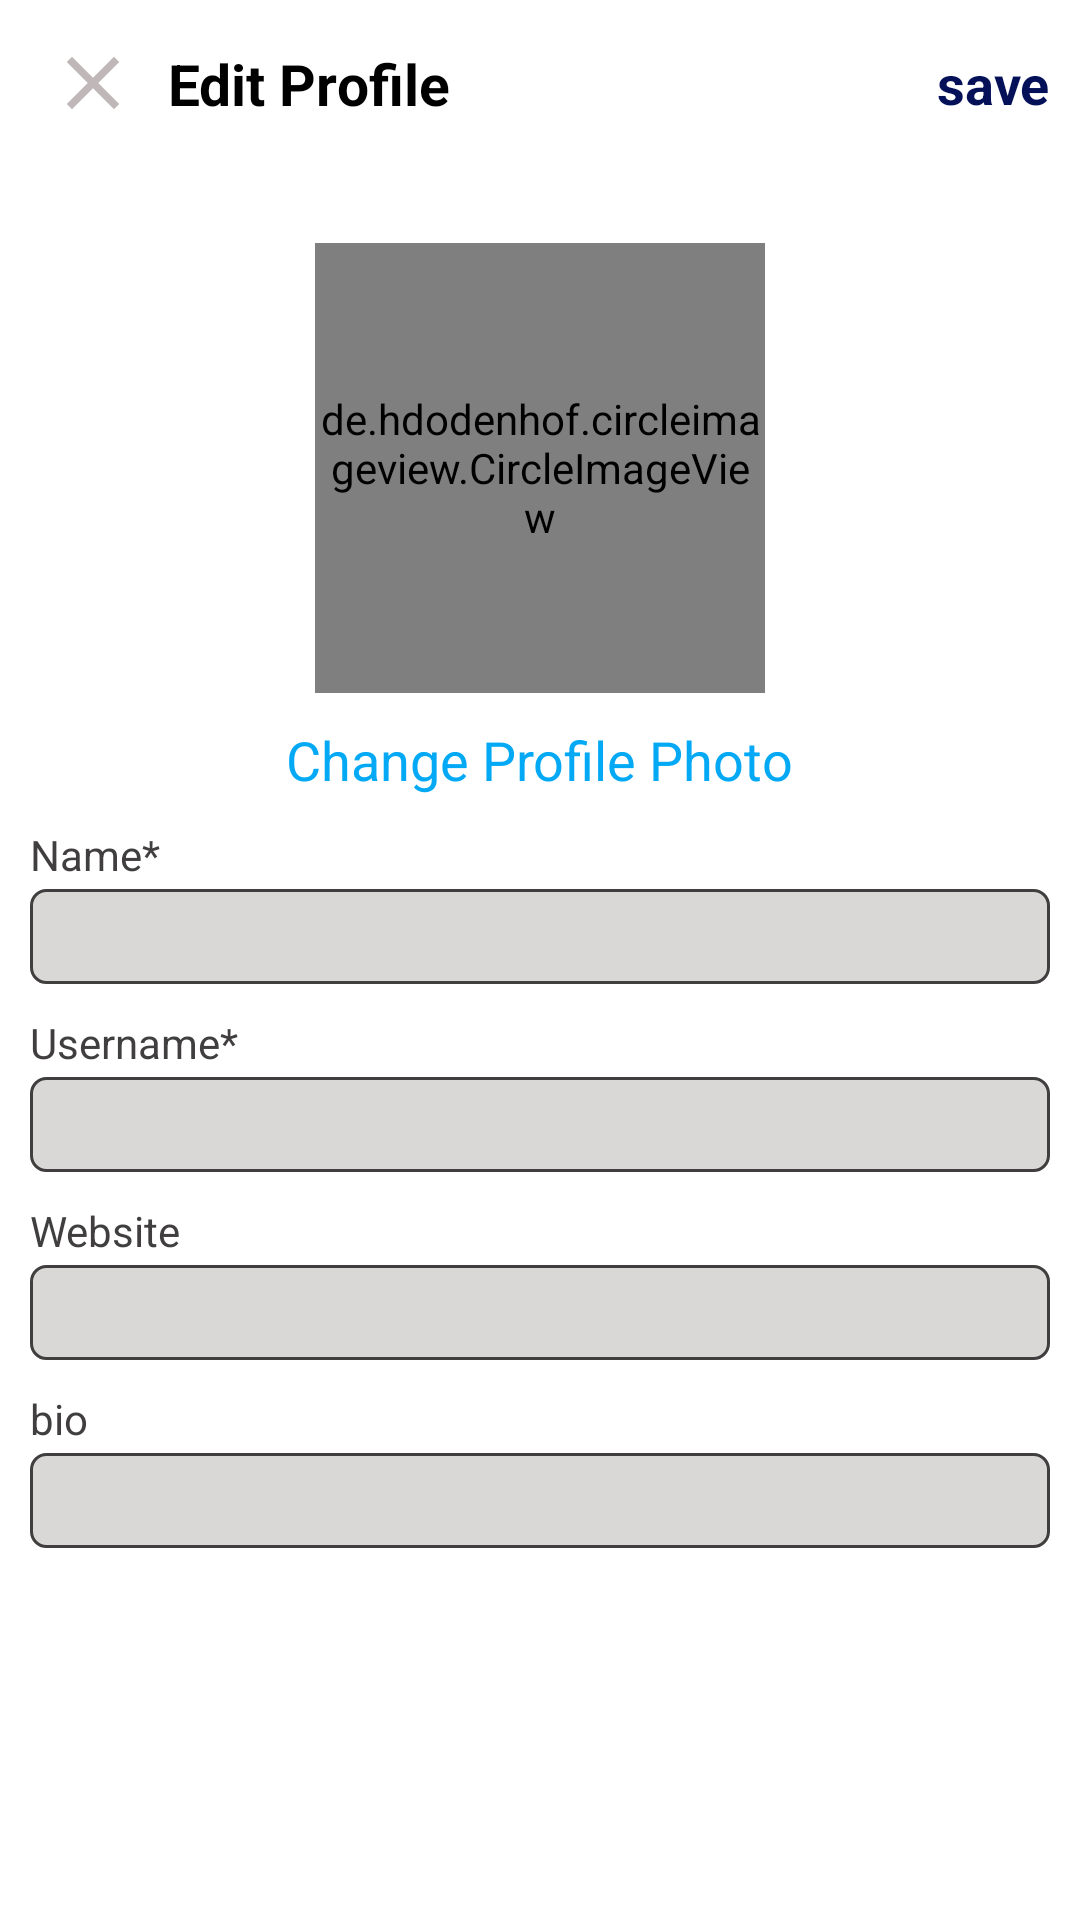

Point at icon controls on the screen. Image size 1080x1920, points as [x,y].
close: [93,83]
